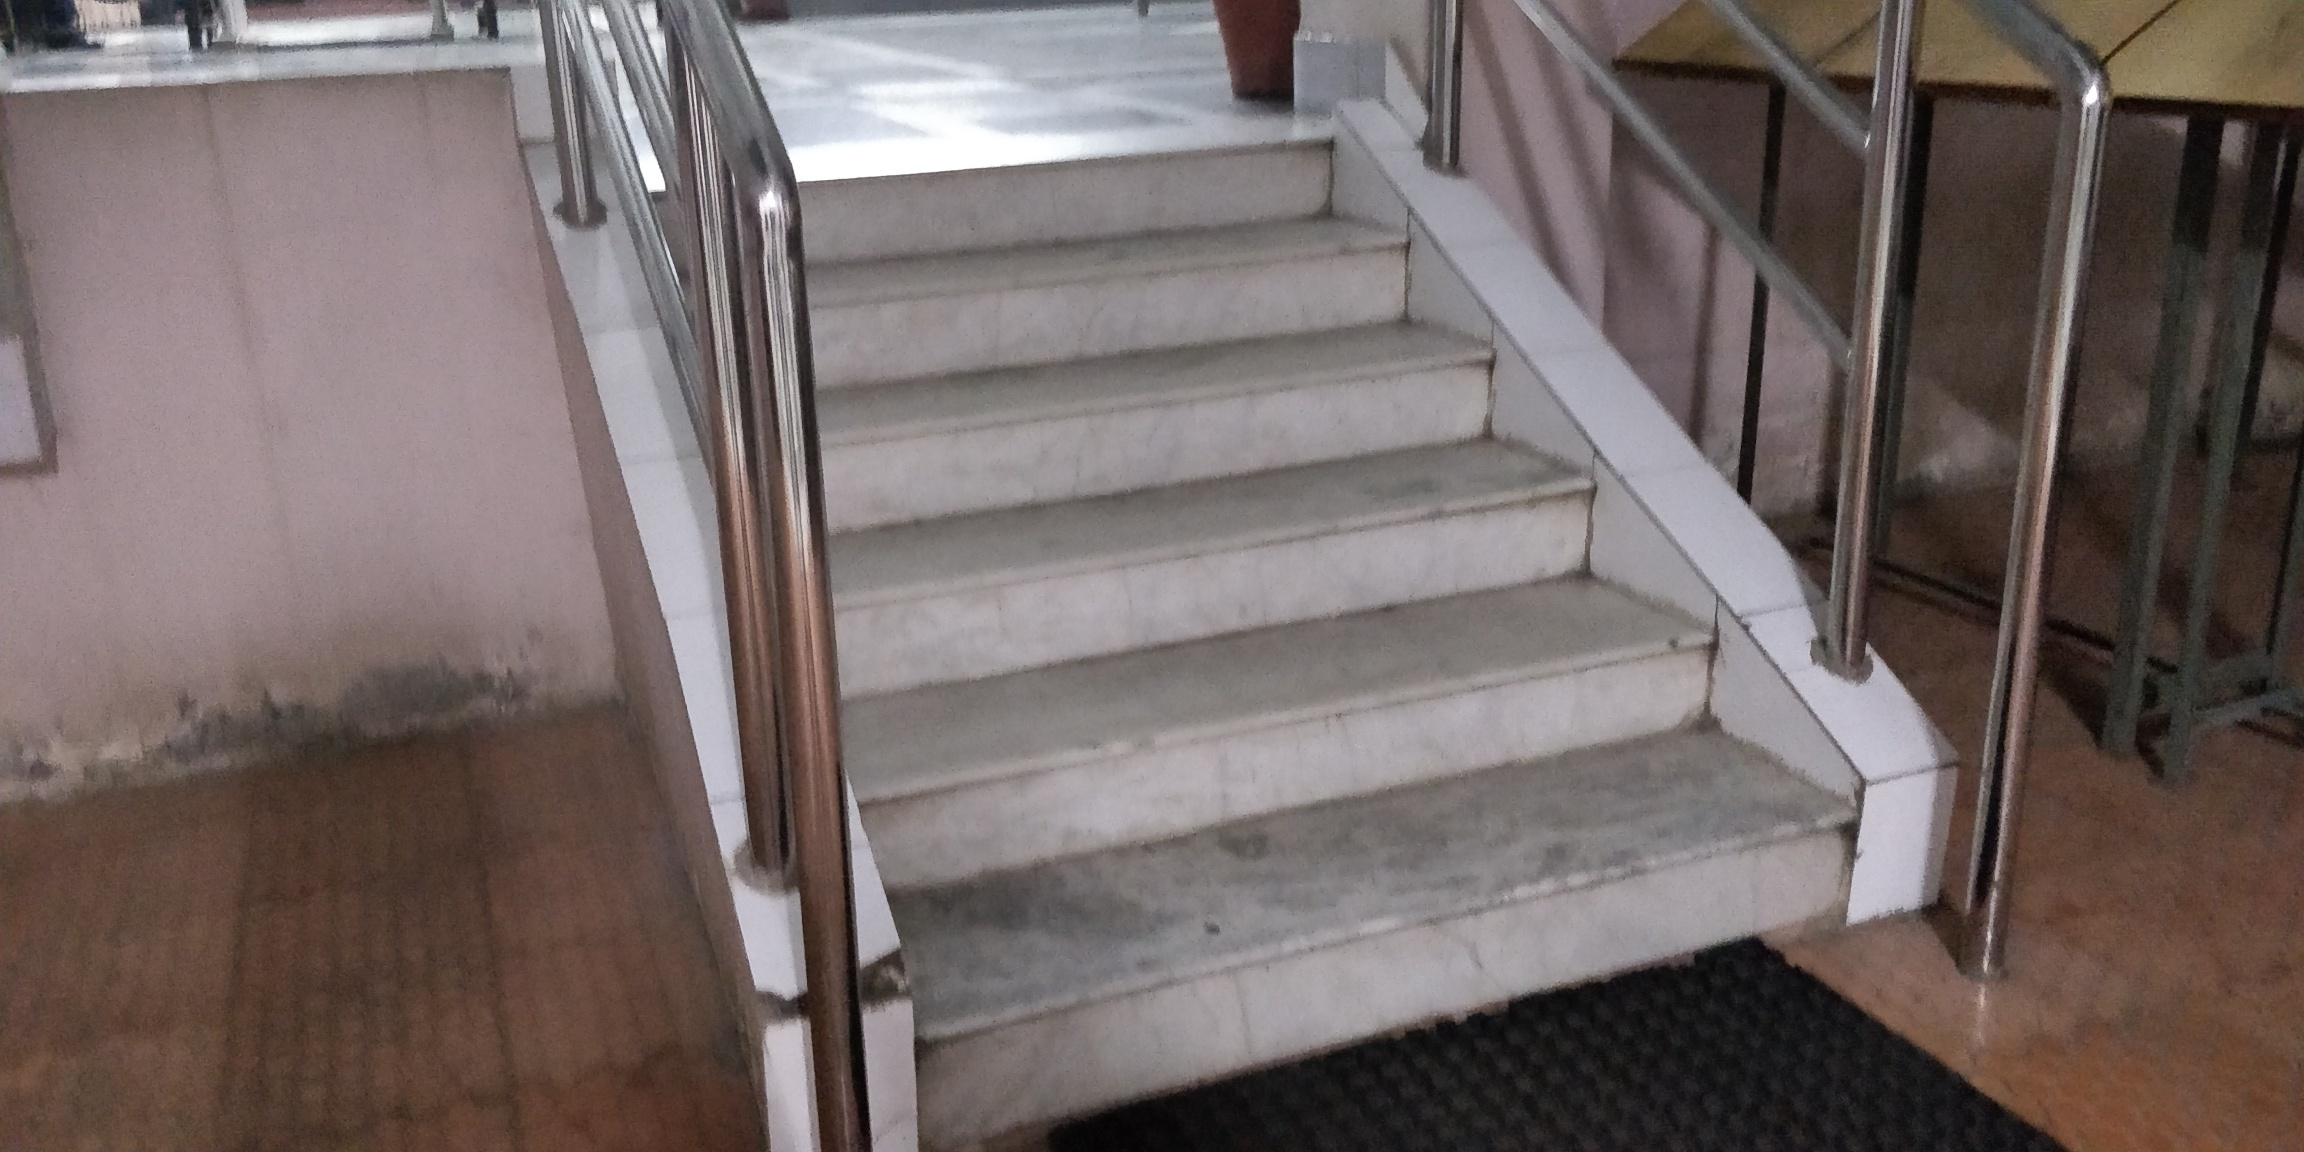stairs_up: (669, 195, 1887, 1039)
